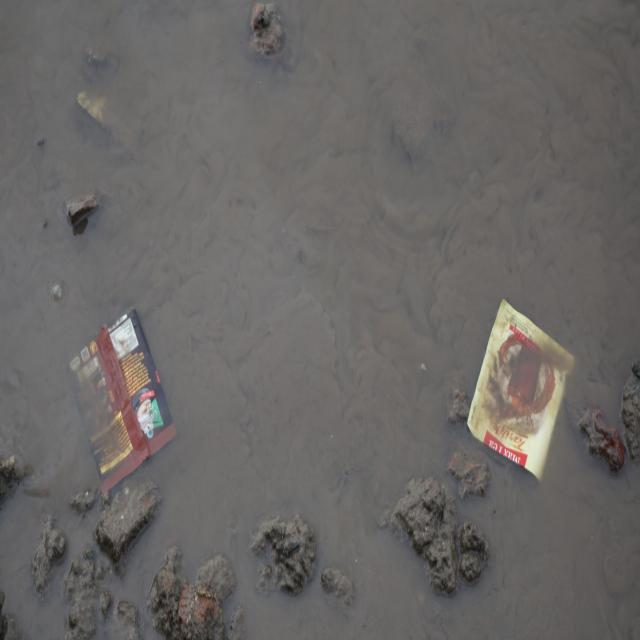Bungkus Minuman: (66, 306, 180, 490), (470, 294, 578, 485)
